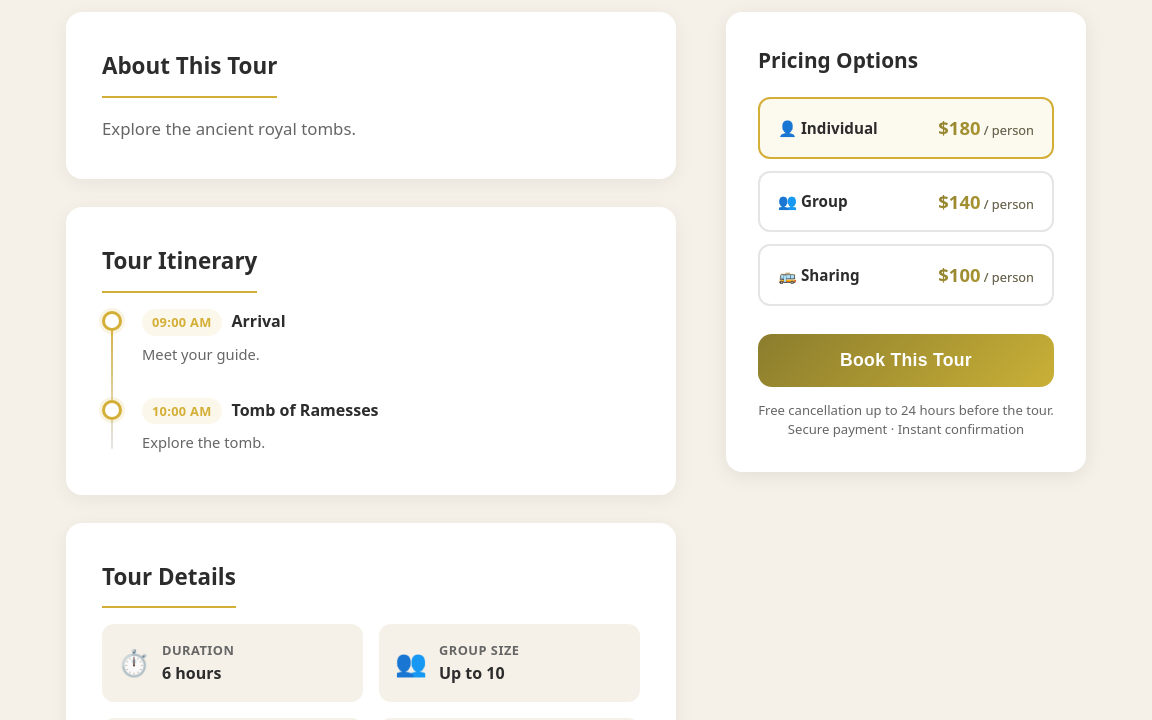
TourDetail › closes the booking modal when close button is clicked
This screenshot has width=1152, height=720.
(page scrolled)
Click the button "Book This Tour": (906, 360) [758, 334, 1054, 387]
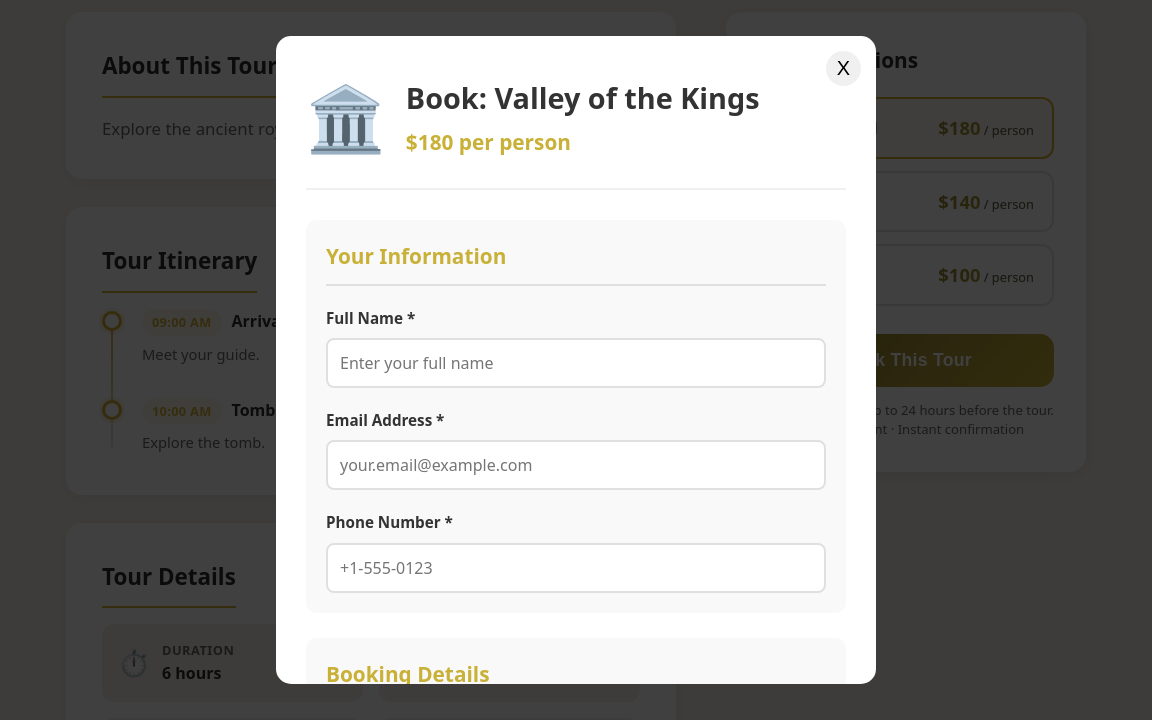
Click the button "X": (844, 68) [826, 51, 861, 86]
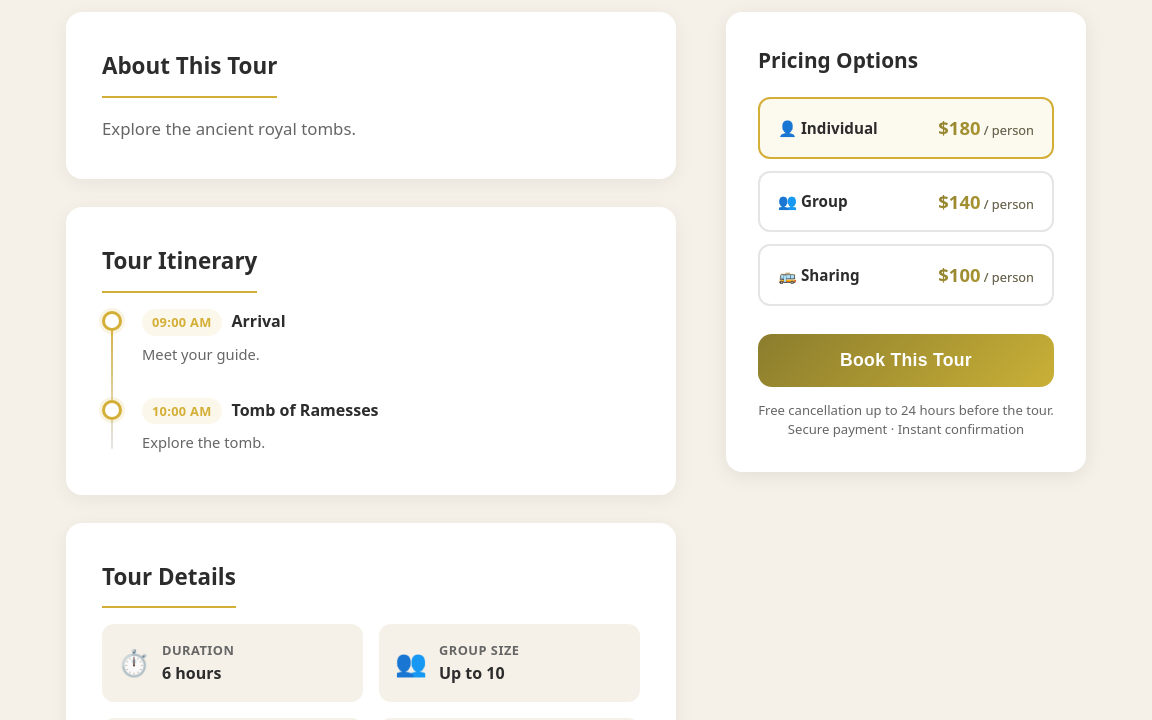
Expected: the heading "Book: Valley of the Kings" is gone
